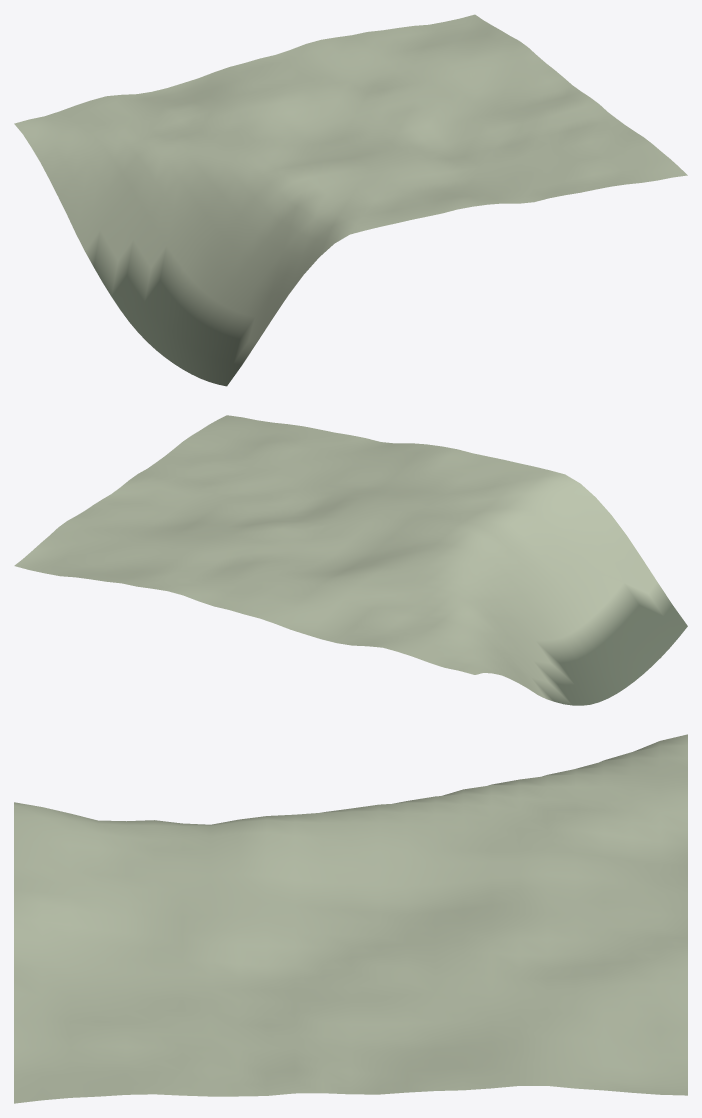
3 renders of one model, top to bottom at view 1: azimuth 30°, elevation 25°; view 2: azimuth 150°, elevation 25°; view 3: azimuth 270°, elevation 25°, orthographic. The views are drawn at different scales.
Visible parts, largest first — view 1: world-ground/30-96; view 2: world-ground/30-96; view 3: world-ground/30-96.
Part boxes in pixels (left/top/right/bottom): world-ground/30-96: left=14, top=14, right=687, bottom=386; world-ground/30-96: left=14, top=415, right=687, bottom=705; world-ground/30-96: left=14, top=734, right=687, bottom=1103.
Size of the model in its own units: 37.5 by 10.77 by 30.
